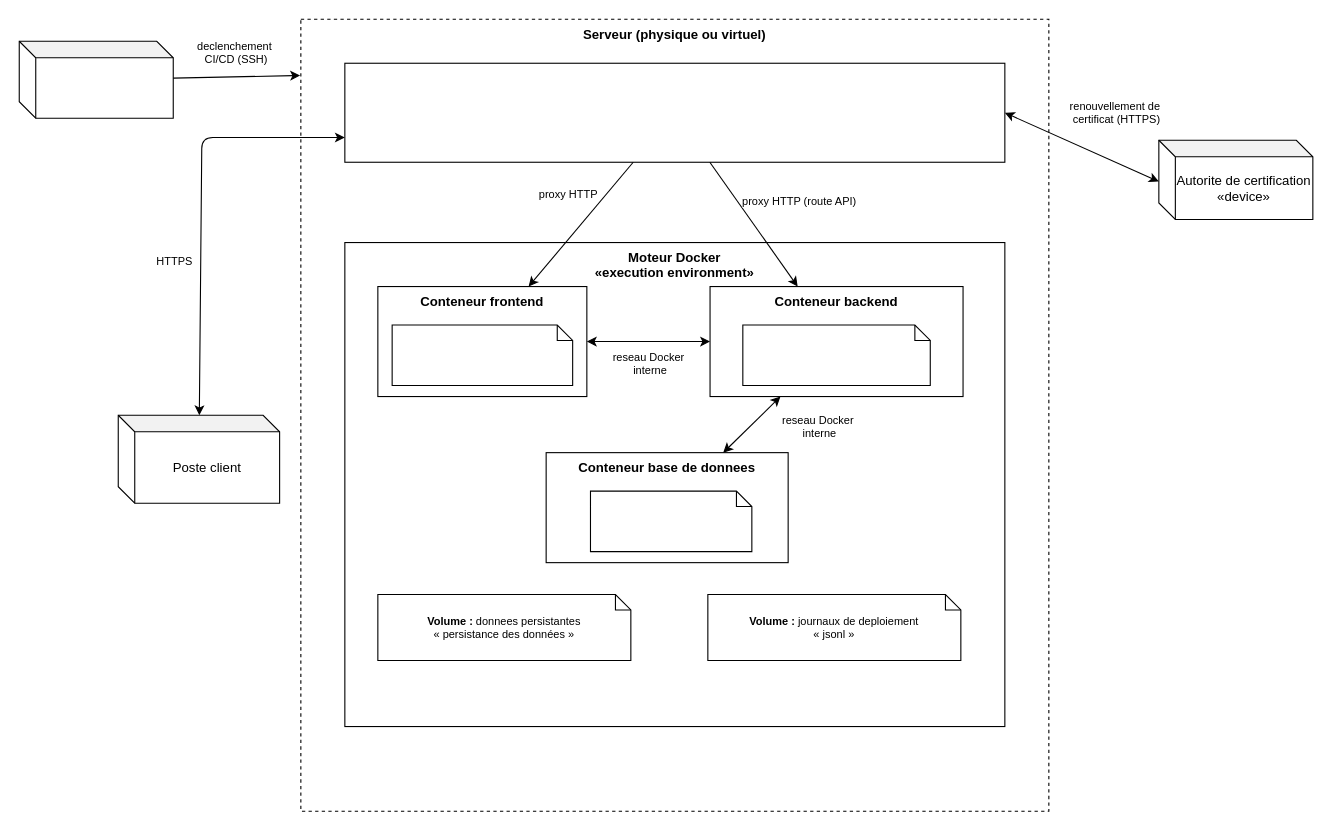
The diagram is 1332 pixels wide and 831 high, and some of its shapes have lost their labels. The shapes that lost their labels are listed below. From the top down, each one's centre as x and y in pixels, then its label:
(x=95, y=79): Depot Git «device»
(x=674, y=112): Nginx (hote) «reverse proxy»
(x=482, y=355): Interface web (build statique + Nginx interne)
(x=836, y=355): API backend (serveur ASGI)
(x=670, y=521): Base de donnees relationnelle « postgresql »
